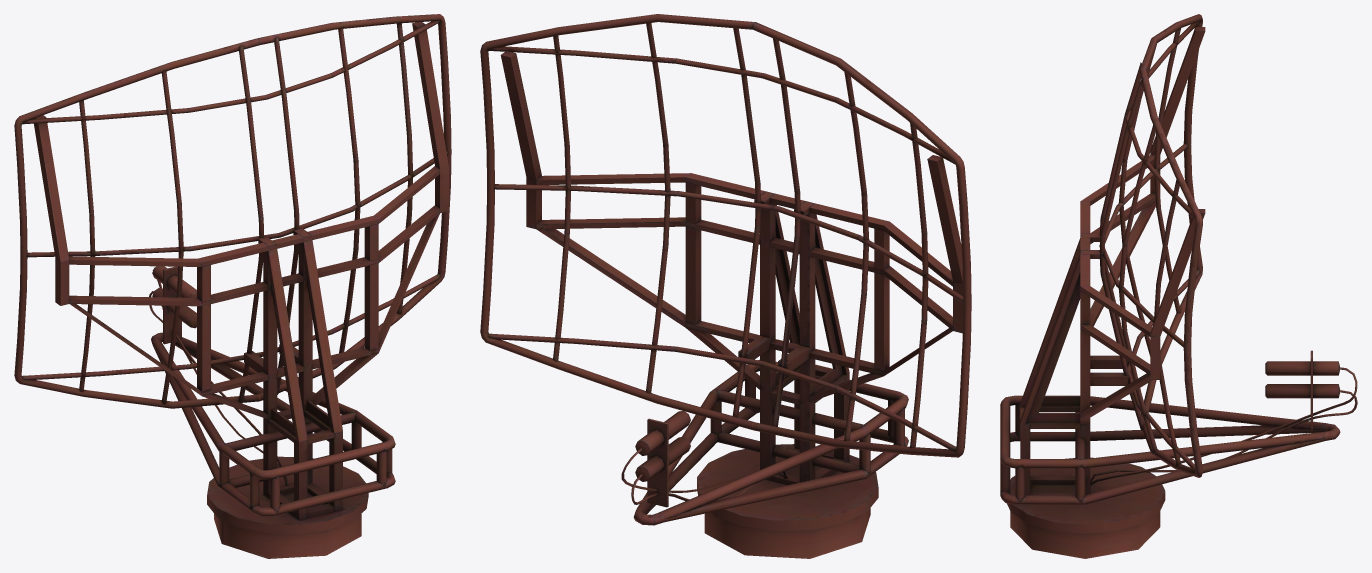
3 views of the same model, side by side, from view 1: azimuth 30°, elevation 25°; view 2: azimuth 150°, elevation 25°; view 3: azimuth 270°, elevation 25° (orthographic). The views are drawn at different scales.
Visible parts, largest first — view 1: body0_model0_lod0_mesh0; view 2: body0_model0_lod0_mesh0; view 3: body0_model0_lod0_mesh0.
Part boxes in pixels (left/top/right/bottom): body0_model0_lod0_mesh0: left=14, top=14, right=451, bottom=558; body0_model0_lod0_mesh0: left=480, top=14, right=971, bottom=558; body0_model0_lod0_mesh0: left=1000, top=14, right=1357, bottom=558.
Bounding box in the file's own units: 195 × 203 × 143.
Materials: 1 (1 with a texture image).
